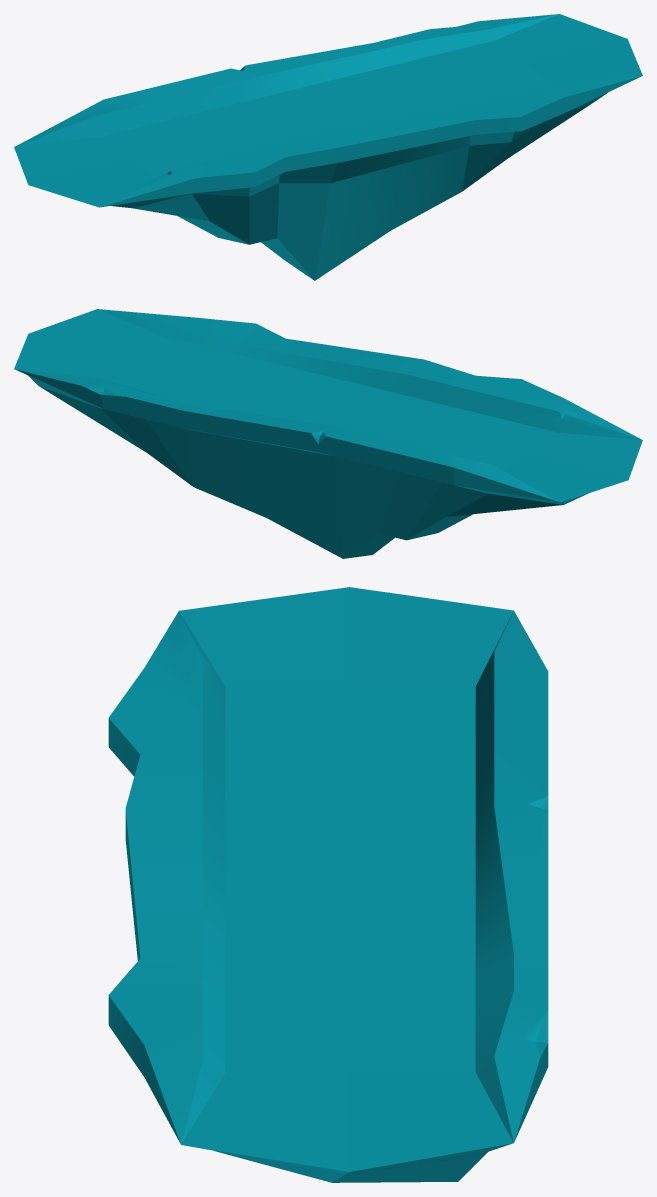
The model's file is Floating_Platform_Lrg_NoC.fbx.
3 views of the same model, one above another, from view 1: azimuth 30°, elevation 25°; view 2: azimuth 150°, elevation 25°; view 3: azimuth 270°, elevation 25° (orthographic). The views are drawn at different scales.
Parts seen in each view (by area): view 1: FLoating_Lrg_NoC; view 2: FLoating_Lrg_NoC; view 3: FLoating_Lrg_NoC.
Boxes of the visible parts, bbox=[...] form: FLoating_Lrg_NoC: bbox=[14, 14, 642, 280]; FLoating_Lrg_NoC: bbox=[14, 309, 642, 558]; FLoating_Lrg_NoC: bbox=[108, 587, 548, 1182].
Bounding box in the file's own units: 4.71 × 1.17 × 1.5.
